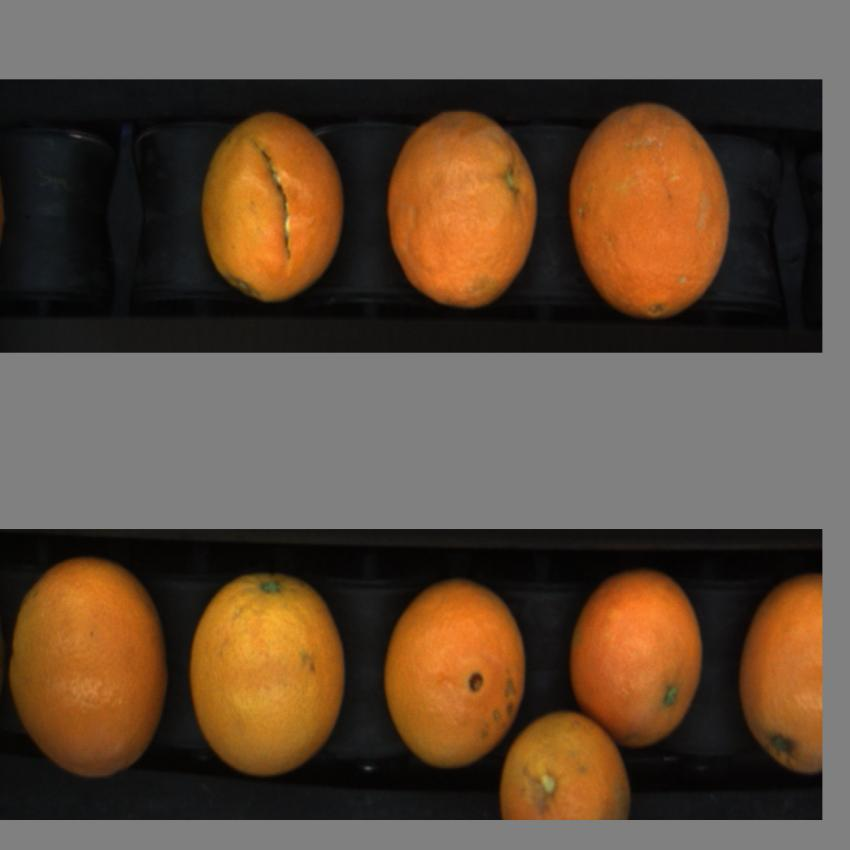Buen estado: (8, 550, 171, 790), (188, 558, 350, 782), (566, 103, 733, 320), (386, 112, 538, 307), (384, 572, 526, 776), (566, 566, 707, 751), (499, 707, 634, 816)
Mal estado: (199, 107, 350, 300), (735, 573, 825, 781)
